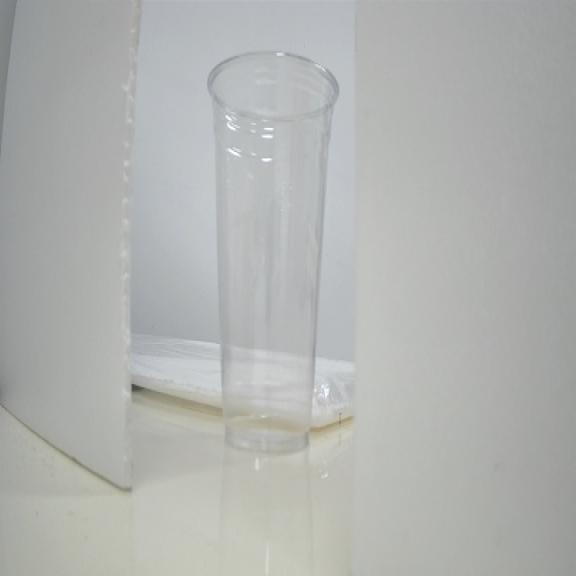Plastik: (208, 52, 338, 451)
